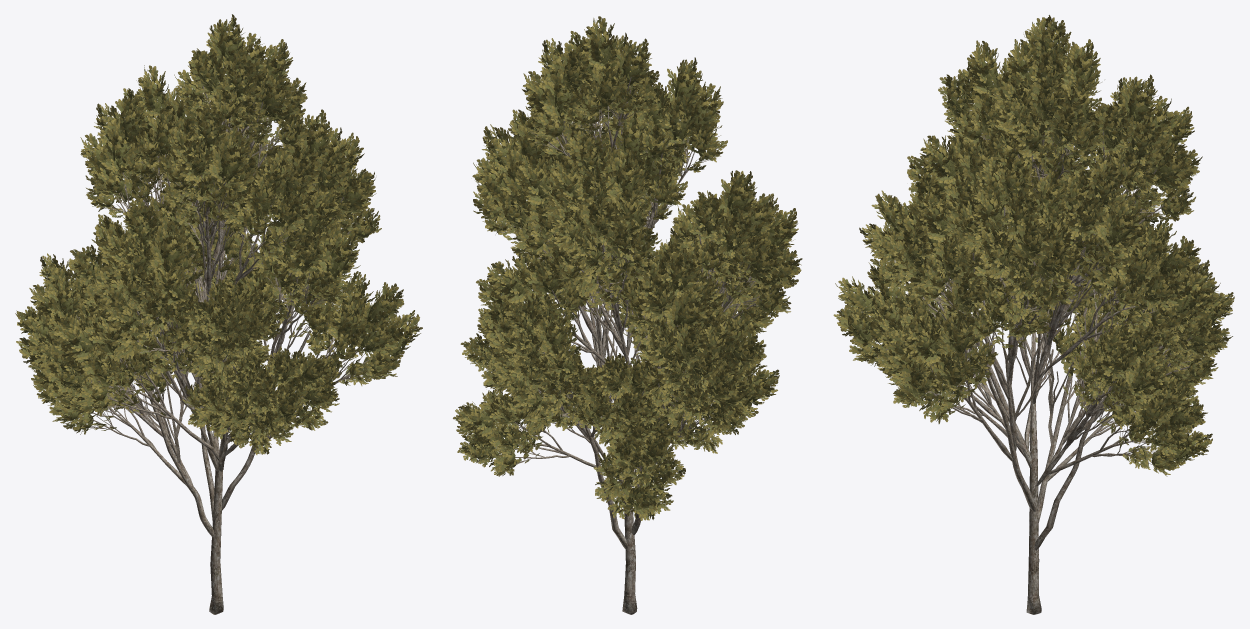
File: urban_tree.glb
3 renders of one model, left to right at view 1: azimuth 30°, elevation 25°; view 2: azimuth 150°, elevation 25°; view 3: azimuth 270°, elevation 25°, orthographic. The views are drawn at different scales.
Parts seen in each view (by area): view 1: Mesh_Folhagem_0 (×3), Mesh_galho fino_0; view 2: Mesh_Folhagem_0 (×3), Mesh_galho fino_0; view 3: Mesh_Folhagem_0 (×3), Mesh_galho fino_0.
Boxes of the visible parts, bbox=[...] form: Mesh_Folhagem_0 (×3): bbox=[15, 14, 422, 454]; Mesh_galho fino_0: bbox=[72, 83, 376, 614]; Mesh_Folhagem_0 (×3): bbox=[453, 16, 802, 520]; Mesh_galho fino_0: bbox=[493, 77, 771, 614]; Mesh_Folhagem_0 (×3): bbox=[833, 15, 1234, 476]; Mesh_galho fino_0: bbox=[871, 100, 1199, 614].
Bounding box in the file's own units: 3.19 × 5.77 × 3.45.
2 materials, 2 textured.
